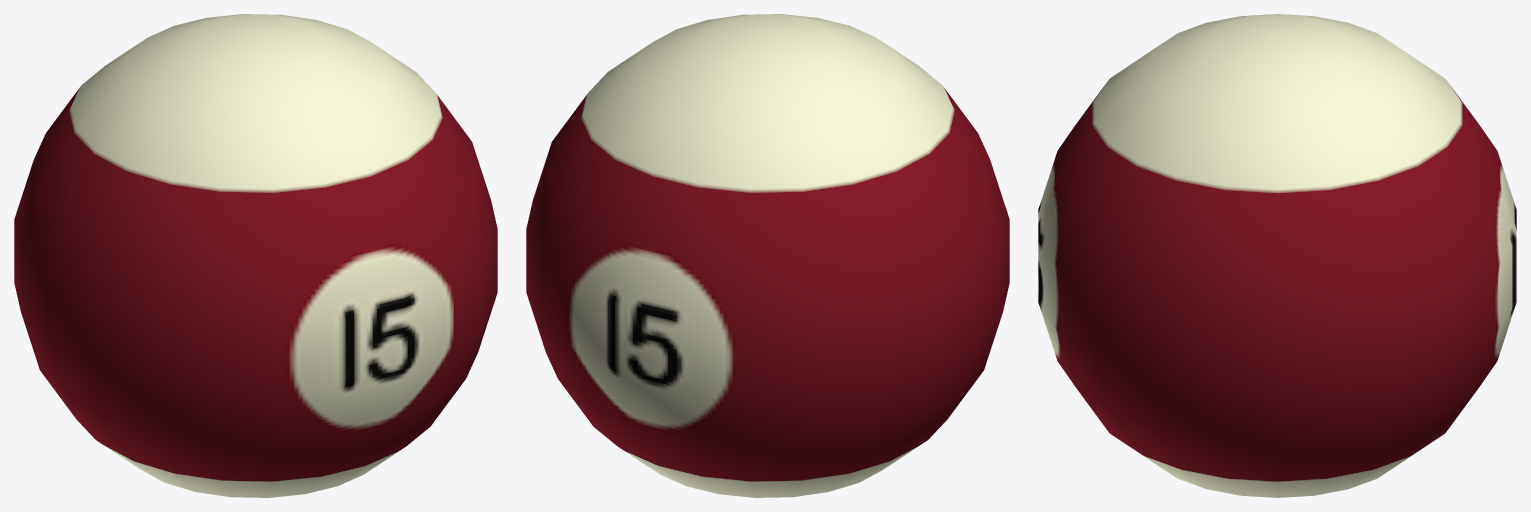
File: Ball_15.FBX
The picture shows the model from 3 angles, left to right: view 1: azimuth 30°, elevation 25°; view 2: azimuth 150°, elevation 25°; view 3: azimuth 270°, elevation 25°; orthographic projection.
Parts seen in each view (by area): view 1: Ball_15; view 2: Ball_15; view 3: Ball_15.
Part boxes in pixels (left/top/right/bottom): Ball_15: left=14, top=14, right=497, bottom=497; Ball_15: left=526, top=14, right=1009, bottom=497; Ball_15: left=1038, top=14, right=1516, bottom=497.
Bounding box in the file's own units: 5.64 × 5.7 × 5.58.
